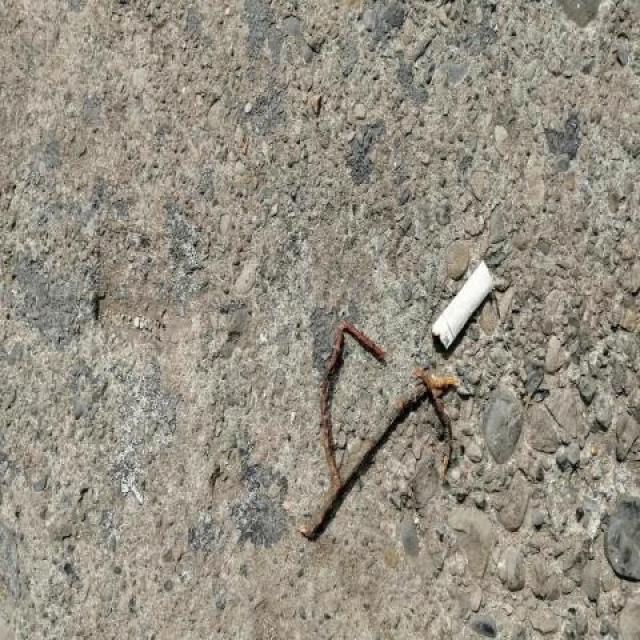non-organic waste: (428, 255, 499, 361)
